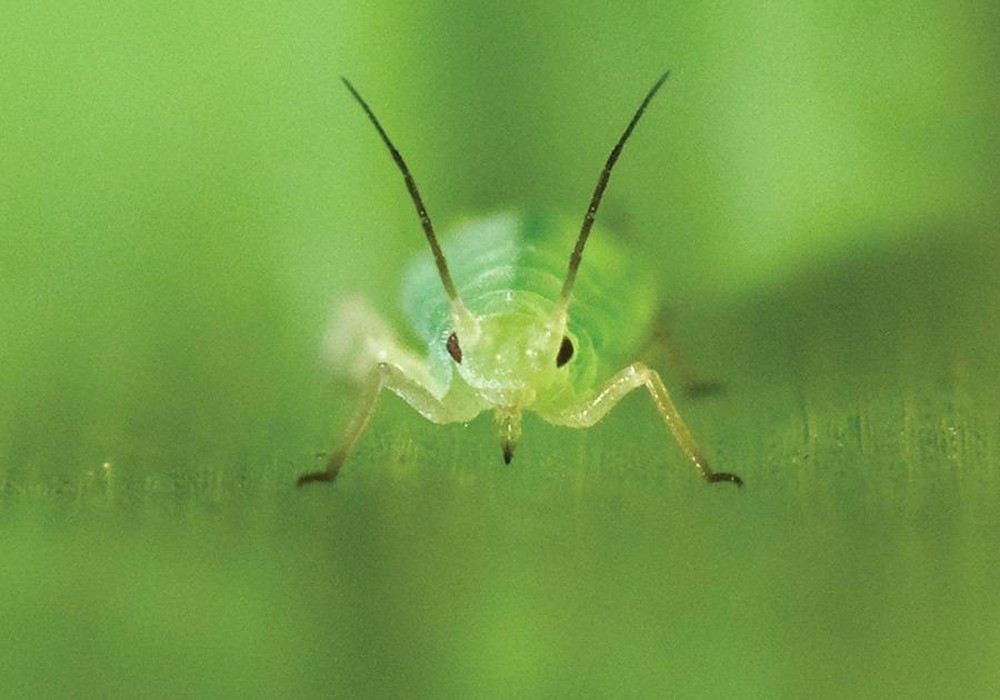Pulgon: (299, 68, 768, 538)
